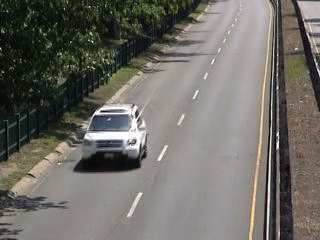car: (77, 99, 154, 174)
